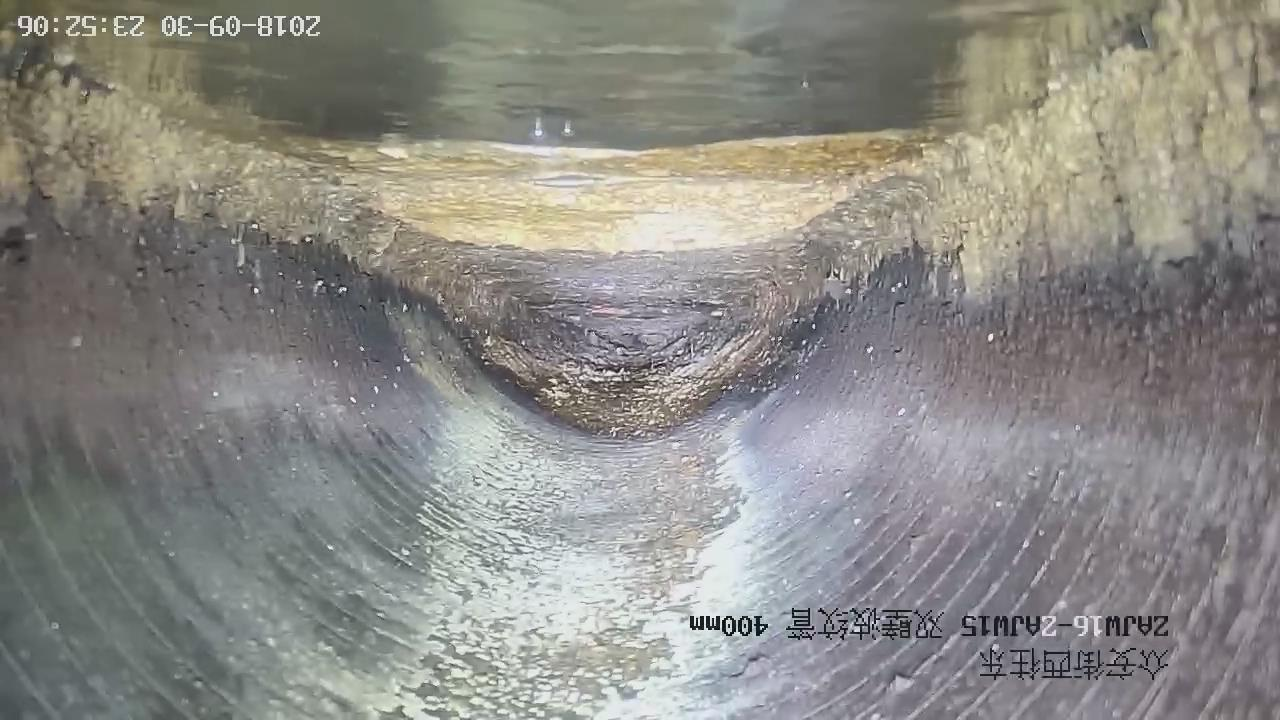FZ: (343, 132, 923, 344)
JG: (1, 1, 1280, 439)
